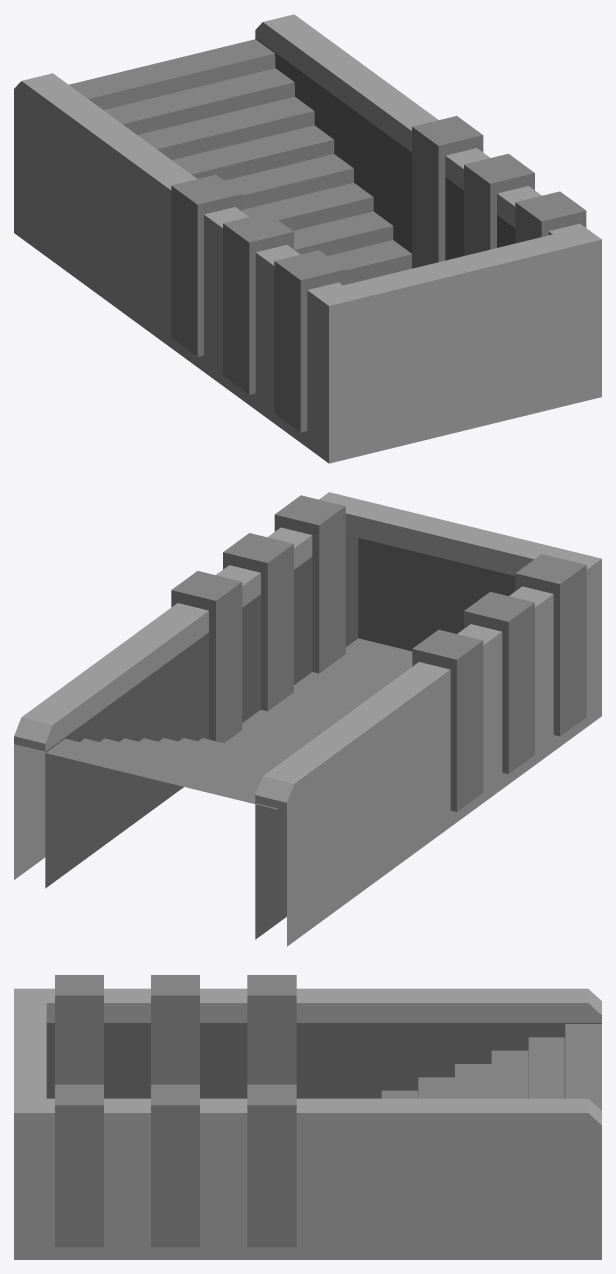
File: Dungeon Stairs Exit 02.FBX
The picture shows the model from 3 angles, top to bottom: view 1: azimuth 30°, elevation 25°; view 2: azimuth 150°, elevation 25°; view 3: azimuth 270°, elevation 25°; orthographic projection. The views are drawn at different scales.
Parts seen in each view (by area): view 1: Dungeon Stairs Exit 02; view 2: Dungeon Stairs Exit 02; view 3: Dungeon Stairs Exit 02.
Boxes of the visible parts, x1,y1,x2,y2 form: Dungeon Stairs Exit 02: (14,14,601,463); Dungeon Stairs Exit 02: (14,492,601,946); Dungeon Stairs Exit 02: (14,975,601,1259).
Bounding box in the file's own units: 419 × 237 × 800.
